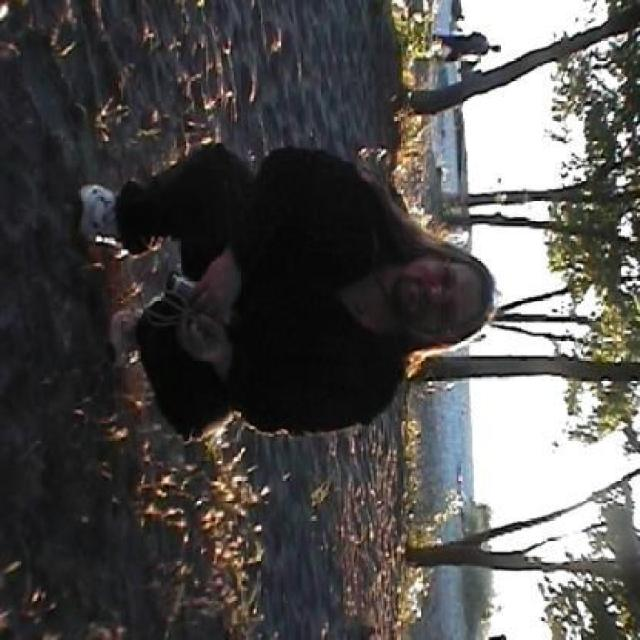Person: (97, 133, 508, 472), (430, 25, 504, 64)
